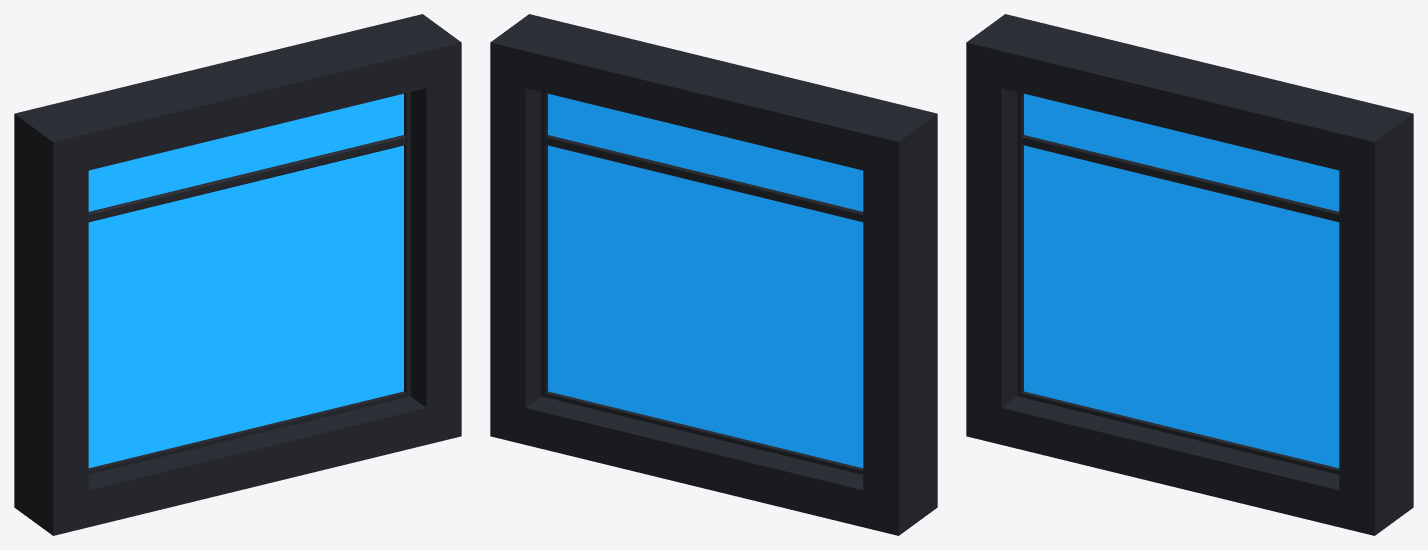
Rendered from janela_quadrada_bandeira_preta.glb.
The picture shows the model from 3 angles, left to right: view 1: azimuth 30°, elevation 25°; view 2: azimuth 150°, elevation 25°; view 3: azimuth 330°, elevation 25°; orthographic projection.
Visible parts, largest first — view 1: janela_quadrada_bandeira_preta; view 2: janela_quadrada_bandeira_preta; view 3: janela_quadrada_bandeira_preta.
Part boxes in pixels (<box>): janela_quadrada_bandeira_preta: <box>14,14,461,535</box>; janela_quadrada_bandeira_preta: <box>490,14,937,535</box>; janela_quadrada_bandeira_preta: <box>966,14,1413,535</box>.
Bounding box in the file's own units: 1.27 × 1.17 × 0.21.
